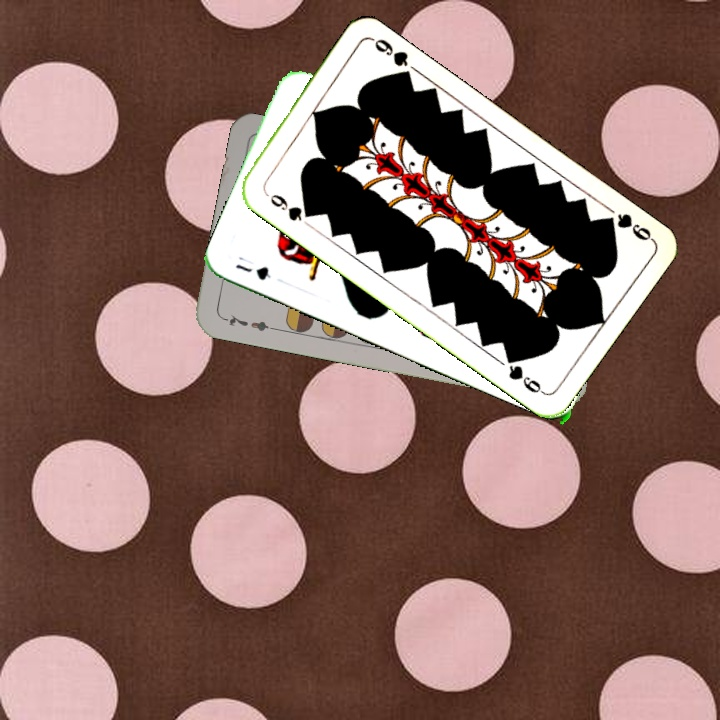E7: (218, 309, 277, 334)
G9: (598, 209, 656, 244), (266, 190, 315, 224)
GU: (231, 259, 274, 283)
